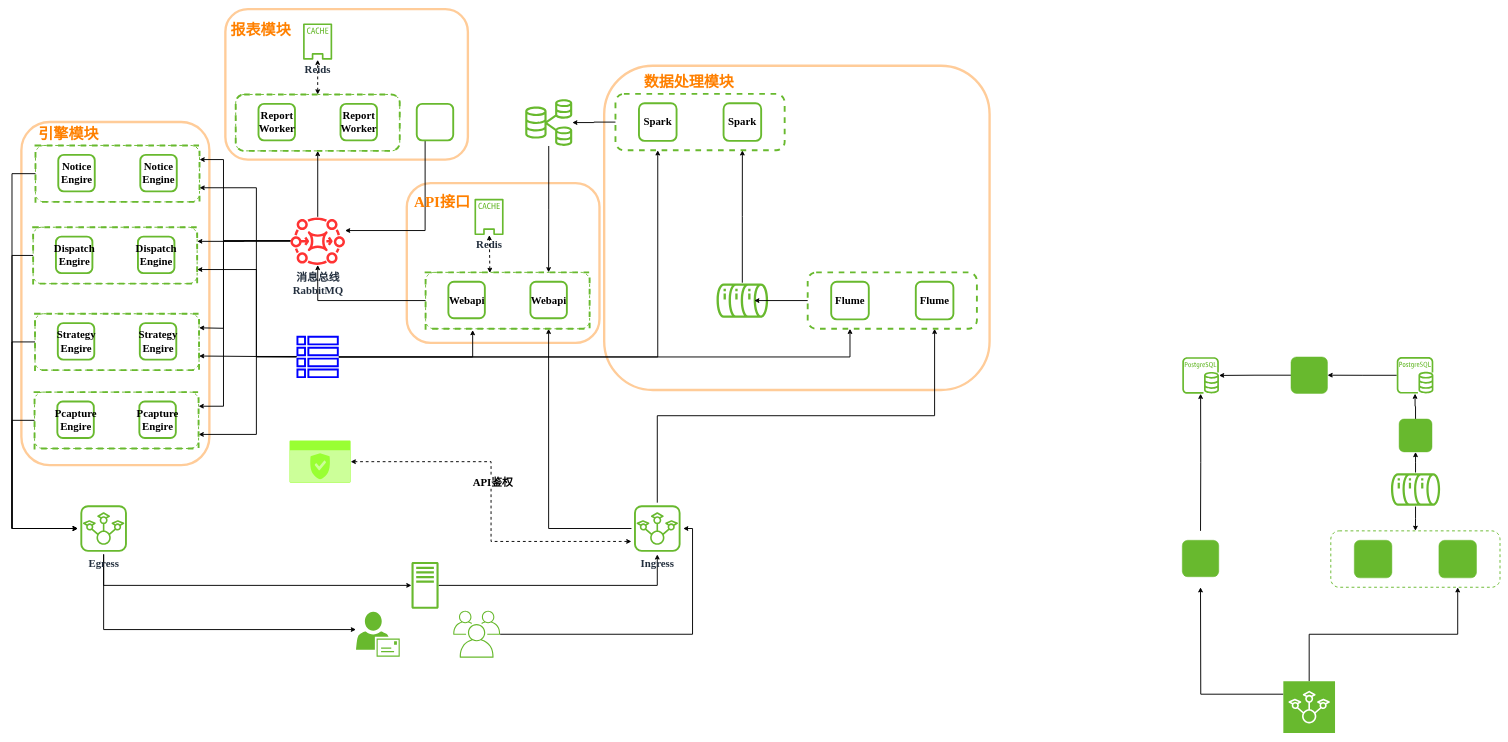
The diagram is 1508 pixels wide and 742 high, and some of its shapes have lost their labels. Here are the shapes that lost their labels. From the top down, the centre of each, then its label:
At pixel 435 122: "Report Beat".
At pixel 548 122: "数据库 Hbase".
At pixel 742 300: "数据总线 Kafka".
At pixel 317 357: "配置中心 Nacos".
At pixel 319 461: "Security".
At pixel 1415 489: "数据总线/ Kafka".
At pixel 424 585: "设备".
At pixel 378 634: "邮件".
At pixel 476 634: "用户".
